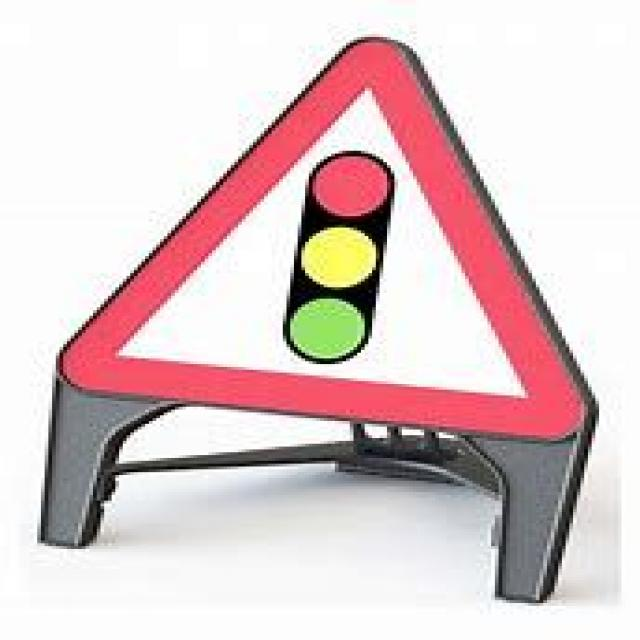TRAFFIC_SIGNAL: (56, 31, 584, 441)
